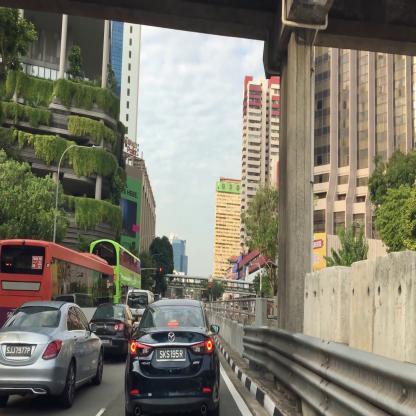red_traffic_light: (156, 268, 161, 271), (209, 282, 210, 293)
